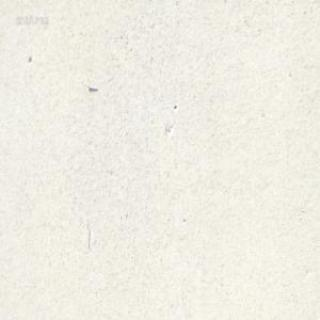Nailtrack_idkeyframe: (87, 83, 97, 89)
